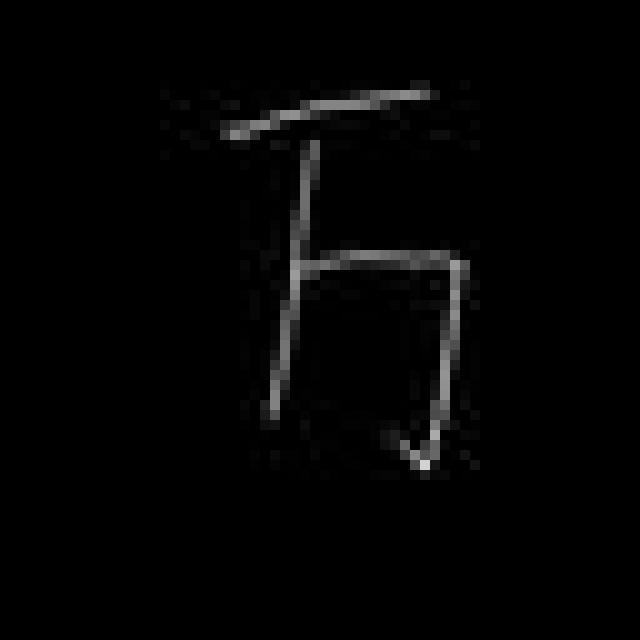10000 -a ten thousand-: (210, 70, 480, 488)
